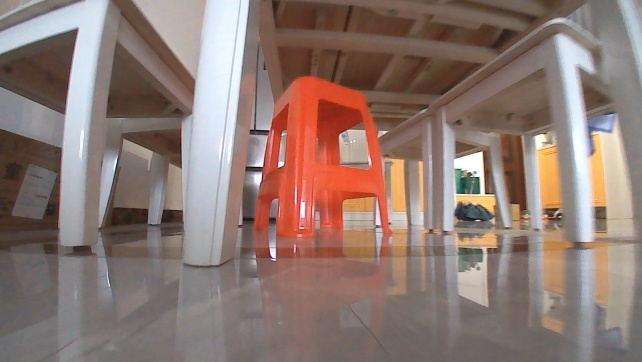dining_table1: (0, 0, 641, 270)
